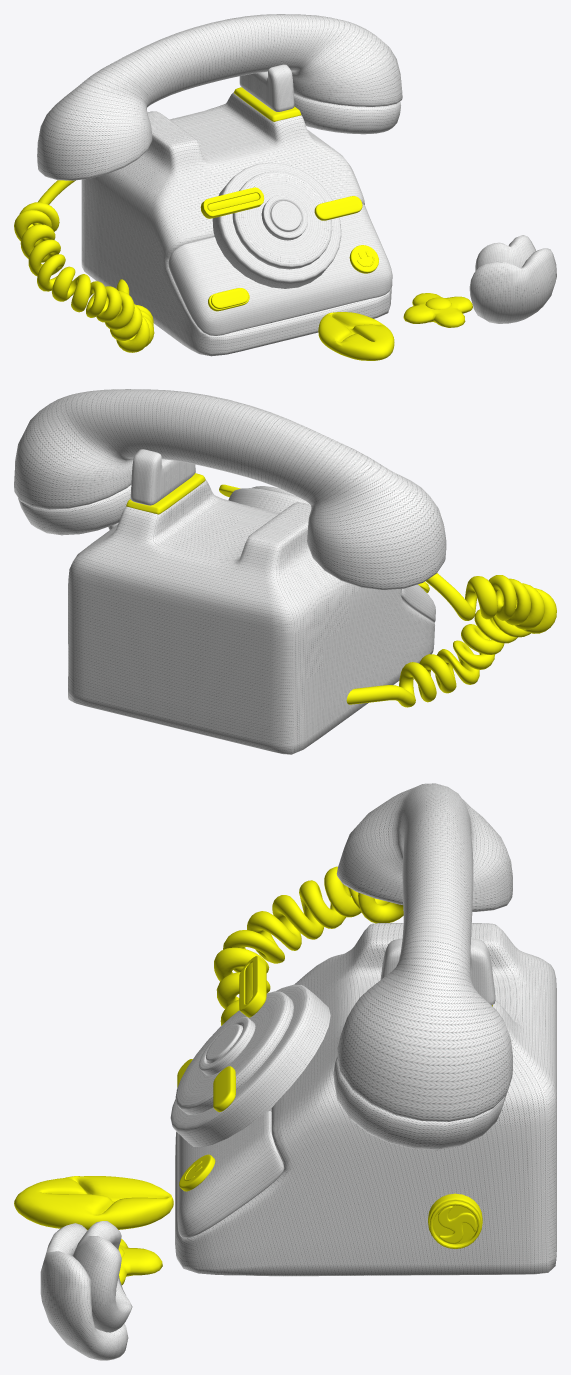
Rendered from A_Phone.fbx.
The picture shows the model from 3 angles, top to bottom: view 1: azimuth 30°, elevation 25°; view 2: azimuth 150°, elevation 25°; view 3: azimuth 270°, elevation 25°; orthographic projection. The views are drawn at different scales.
Visible parts, largest first — view 1: A_Phone, Item_A_Phone_2, Item_A_Phone_6, Item_A_Phone_3, Item_A_Phone_11, Item_A_Phone_12, Item_A_Phone_1, Item_A_Phone_15, Item_A_Phone_17, Item_A_Phone_14; view 2: A_Phone, Item_A_Phone_2, Item_A_Phone_1; view 3: A_Phone, Item_A_Phone_2, Item_A_Phone_6, Item_A_Phone_19, Item_A_Phone_11, Item_A_Phone_3, Item_A_Phone_12, Item_A_Phone_15.
Boxes of the visible parts, box(x1,y1,x2,y2) form: A_Phone: box(37, 14, 556, 356); Item_A_Phone_2: box(14, 180, 154, 352); Item_A_Phone_6: box(318, 312, 394, 360); Item_A_Phone_3: box(403, 293, 472, 327); Item_A_Phone_11: box(200, 187, 263, 218); Item_A_Phone_12: box(314, 196, 362, 220); Item_A_Phone_1: box(234, 87, 301, 121); Item_A_Phone_15: box(349, 245, 378, 273); Item_A_Phone_17: box(211, 288, 248, 308); Item_A_Phone_14: box(207, 193, 259, 211); A_Phone: box(14, 389, 446, 754); Item_A_Phone_2: box(346, 573, 556, 707); Item_A_Phone_1: box(126, 473, 205, 514); A_Phone: box(40, 783, 556, 1360); Item_A_Phone_2: box(214, 866, 403, 1025); Item_A_Phone_6: box(14, 1176, 173, 1230); Item_A_Phone_19: box(428, 1193, 482, 1248); Item_A_Phone_11: box(239, 956, 266, 1017); Item_A_Phone_3: box(119, 1239, 162, 1284); Item_A_Phone_12: box(213, 1066, 235, 1112); Item_A_Phone_15: box(179, 1154, 215, 1191).
Size of the model in its own units: 1.42 by 0.7805 by 0.9938.
